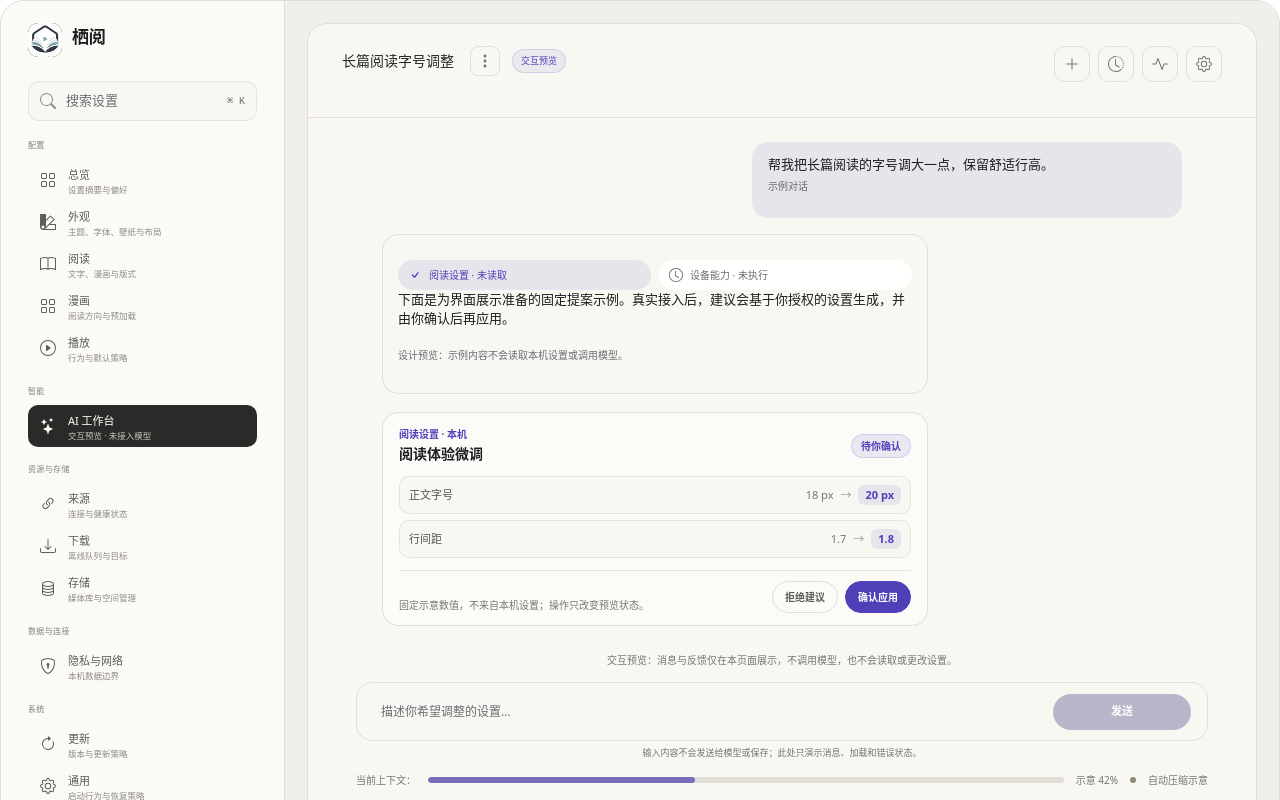
Scenario: AIWorkbenchPreviewPage › opens a true empty state for a new conversation and fills prompts from suggestions
Step 1. Click the button named "新建对话" → (1072, 64), box [1054,46,1090,82]
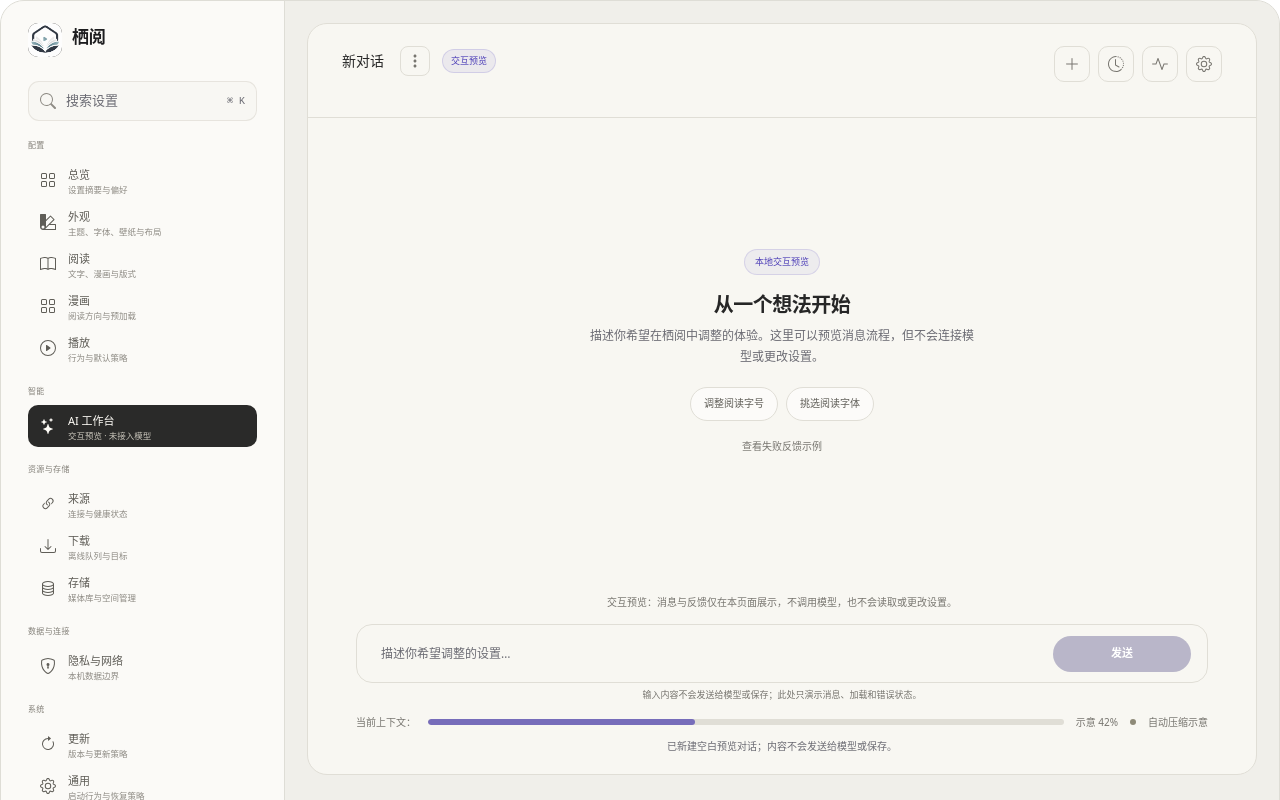
Expected: the button with aria-label "发送预览消息" is disabled, [1053,636,1191,672]
Expected: the heading "新对话" is shown, [342,49,384,73]
Expected: the heading "从一个想法开始" is shown, [714,291,850,319]
Step 2. Click the button "调整阅读字号" → (734, 404), box [690,387,778,421]
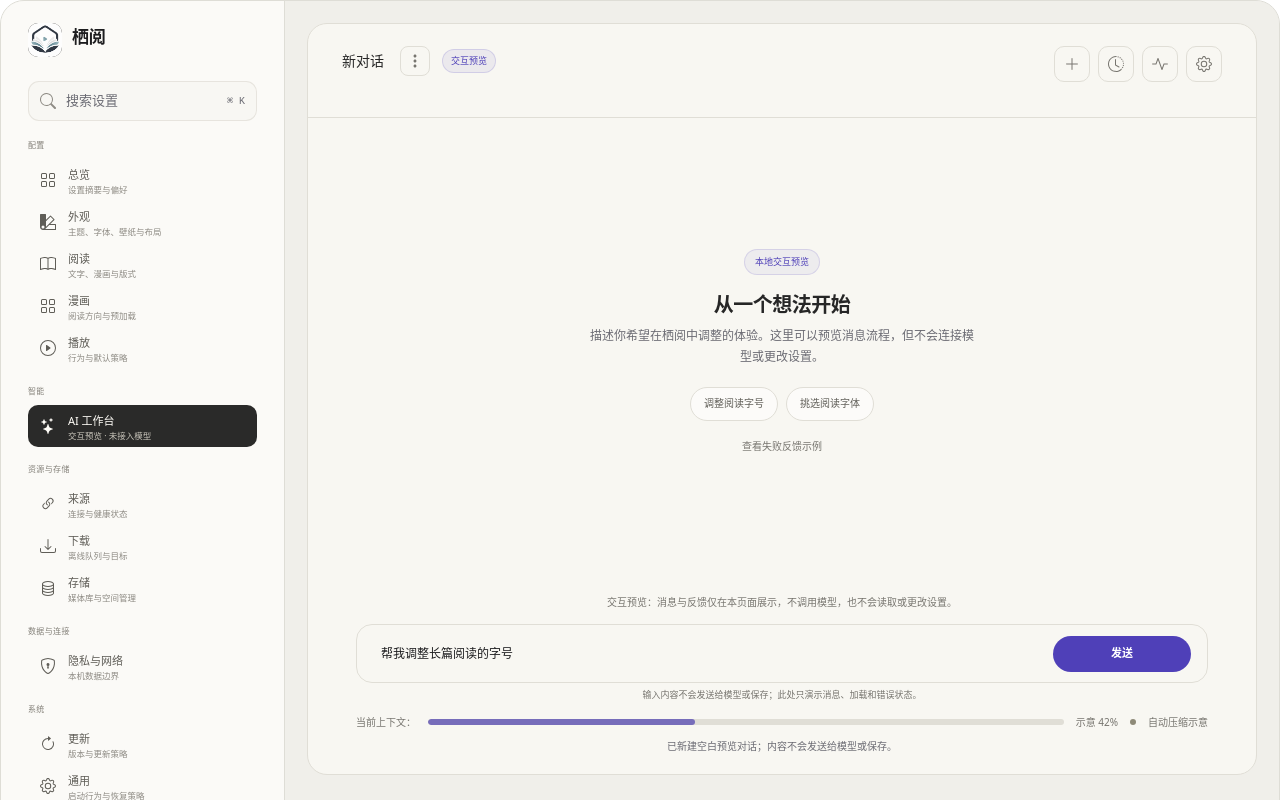
Expected: the field named "描述你想调整的设置" holds "帮我调整长篇阅读的字号", [381,636,1037,672]
Expected: the button with aria-label "发送预览消息" is enabled, [1053,636,1191,672]
